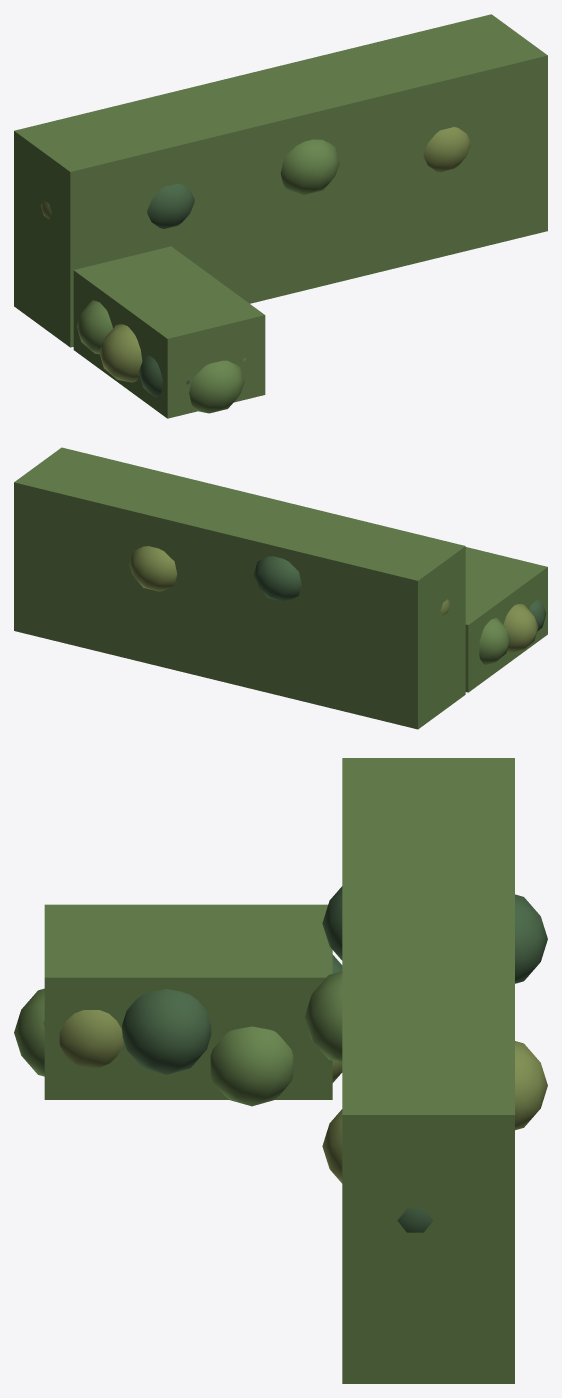
3 views of the same model, one above another, from view 1: azimuth 30°, elevation 25°; view 2: azimuth 150°, elevation 25°; view 3: azimuth 270°, elevation 25° (orthographic). The views are drawn at different scales.
Visible parts, largest first — view 1: climb-hedge-10-0, climb-hedge-10-1, 생울타리 11; view 2: climb-hedge-10-0, climb-hedge-10-1, 생울타리 11; view 3: climb-hedge-10-0, climb-hedge-10-1, 생울타리 11.
Part boxes in pixels (box(x1,y1,x2,y2)): climb-hedge-10-0: box(14, 14, 547, 347); climb-hedge-10-1: box(73, 246, 265, 418); 생울타리 11: box(40, 127, 470, 413); climb-hedge-10-0: box(14, 447, 465, 729); climb-hedge-10-1: box(465, 547, 547, 692); 생울타리 11: box(129, 546, 546, 664); climb-hedge-10-0: box(342, 758, 514, 1383); climb-hedge-10-1: box(44, 904, 332, 1099); 생울타리 11: box(14, 886, 547, 1232).
Bounding box in the file's own units: 4.66 × 1.62 × 2.78.
